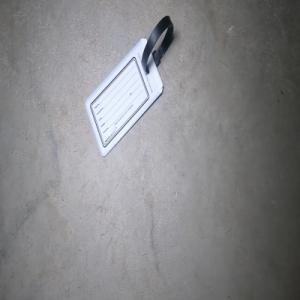LuggageTag: (83, 14, 174, 159)
